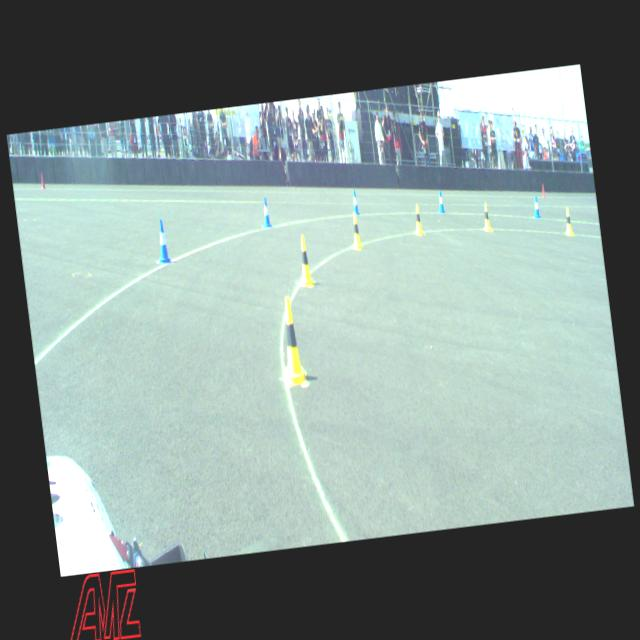blue_cone: (154, 218, 170, 264), (260, 196, 272, 228), (436, 189, 446, 213), (532, 194, 541, 218), (352, 190, 359, 214)
unknown_cone: (40, 172, 46, 190), (540, 184, 546, 196)
yellow_cone: (274, 294, 308, 386), (294, 233, 314, 288), (348, 211, 362, 250), (412, 202, 424, 235), (562, 207, 574, 236), (481, 202, 492, 232)
